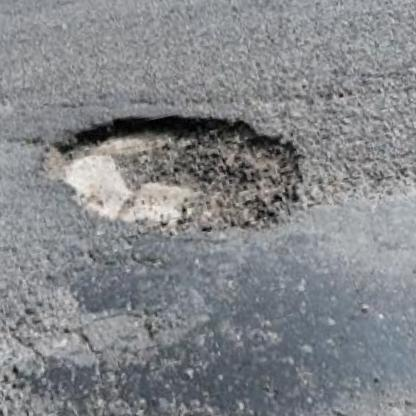pothole: (35, 80, 314, 274)
